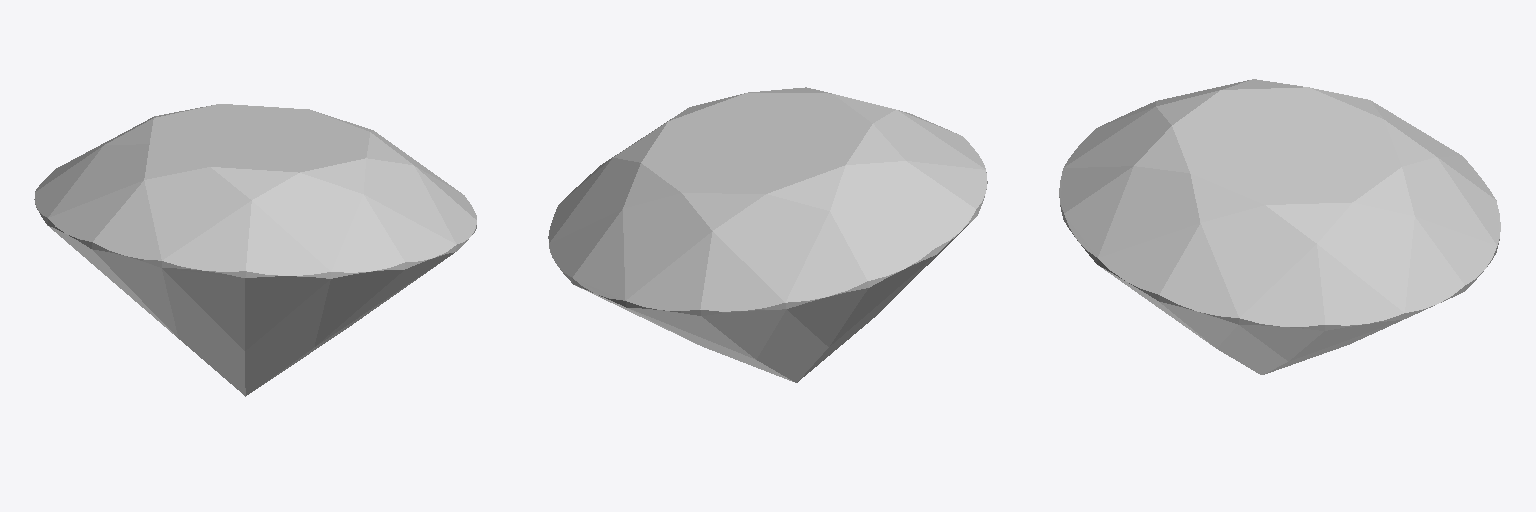
The picture shows the model from 3 angles: view 1: azimuth 30°, elevation 25°; view 2: azimuth 150°, elevation 25°; view 3: azimuth 270°, elevation 25°; orthographic projection.
Visible parts, largest first — view 1: diamond; view 2: diamond; view 3: diamond.
Boxes of the visible parts, box(x1,y1,x2,y2) form: diamond: box(34, 104, 476, 396); diamond: box(548, 87, 987, 382); diamond: box(1059, 79, 1500, 374).
Size of the model in its own units: 1.99 by 1.28 by 1.99.